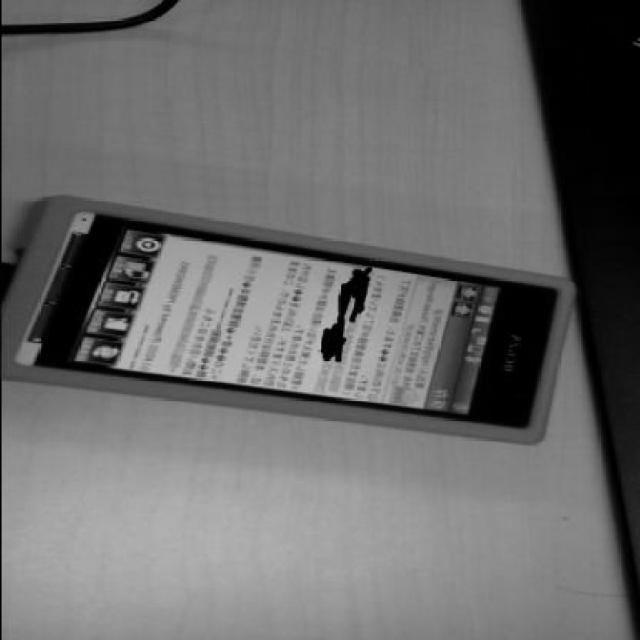fake: (0, 193, 578, 449)
